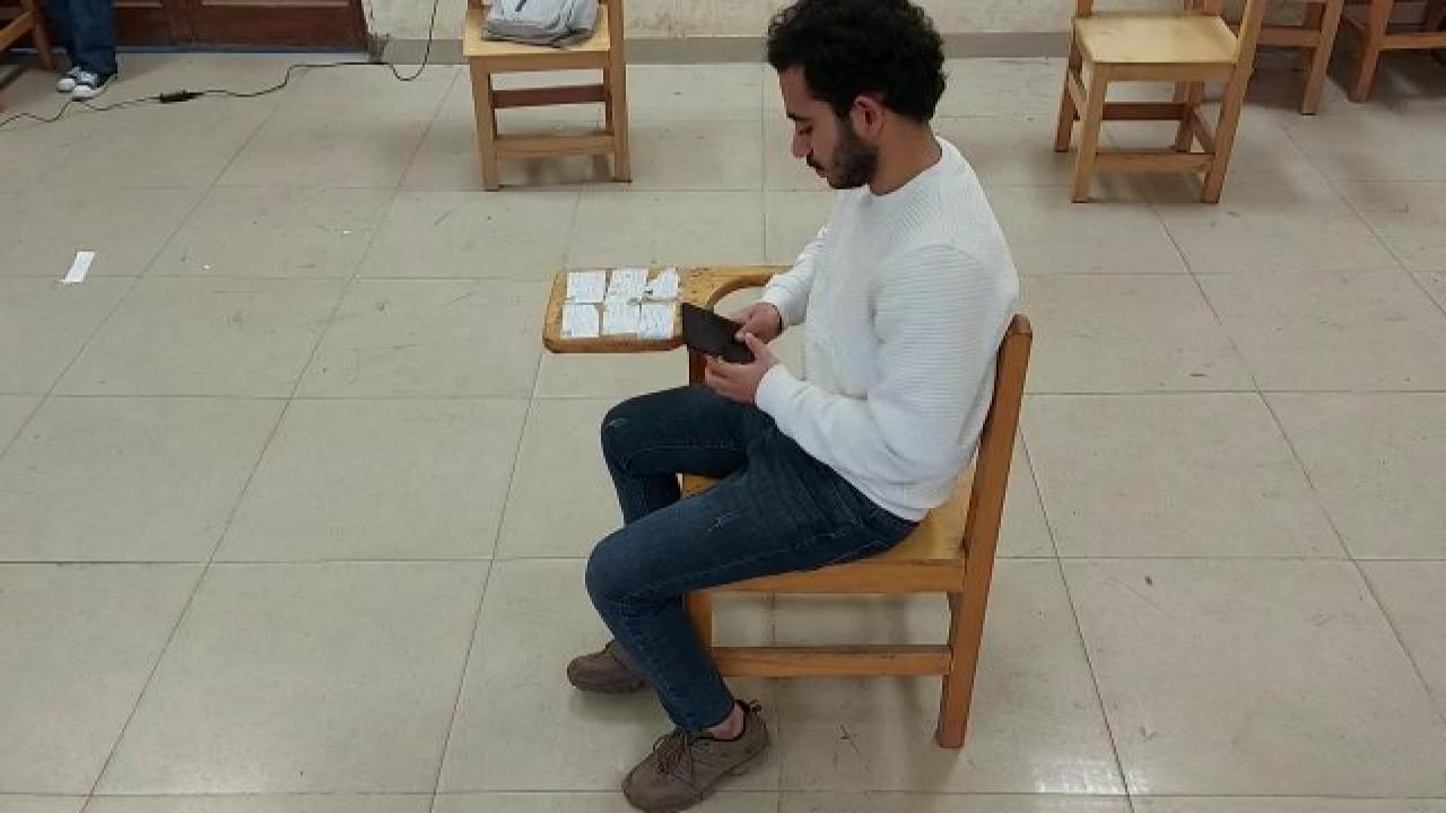phone: (667, 296, 782, 378)
